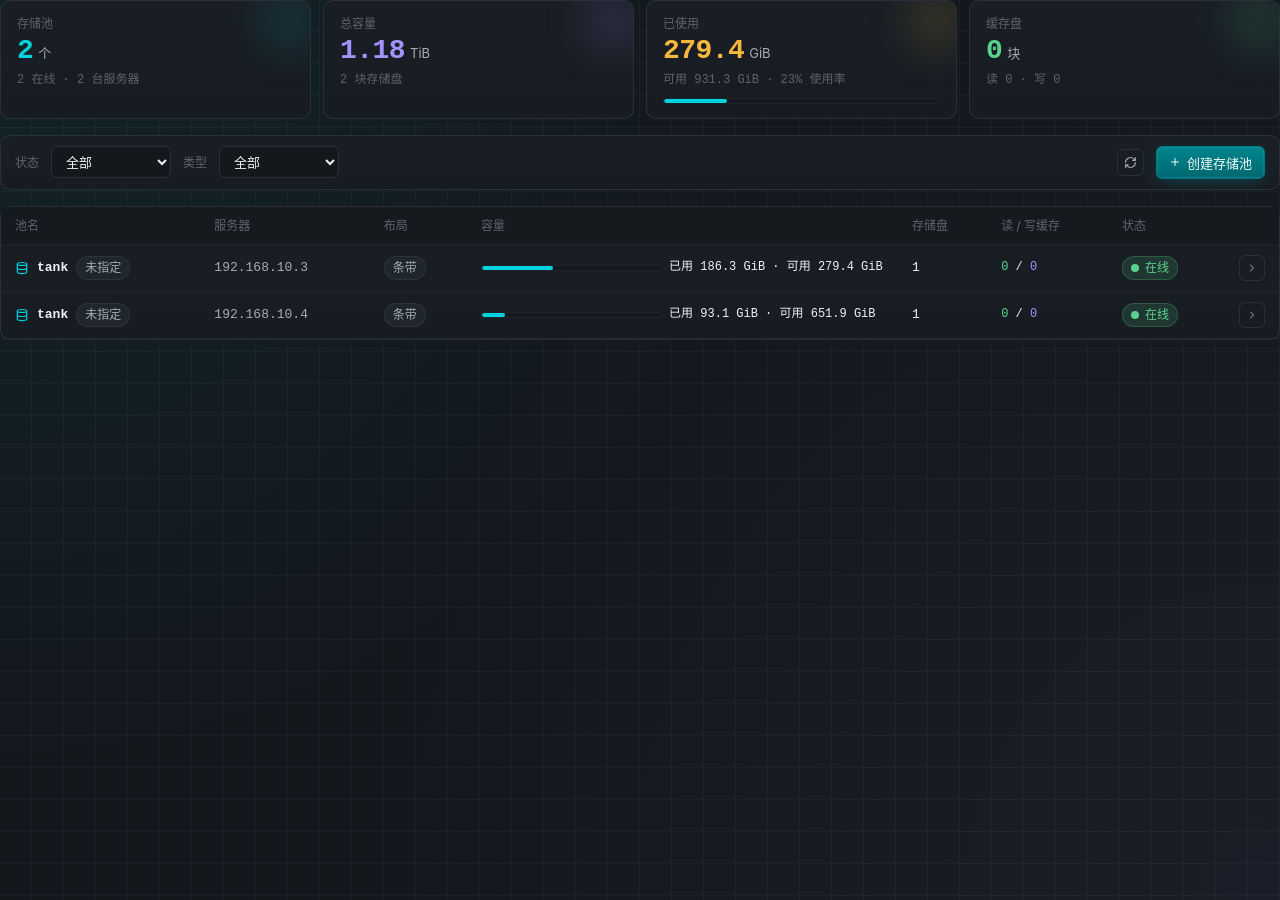
Scenario: 存储页的集群口径 › 建池选了别的节点，盘列表就换成那台的
Step 1. Click the button "创建存储池" → {"x": 1210, "y": 162}, box [1156,146,1265,179]
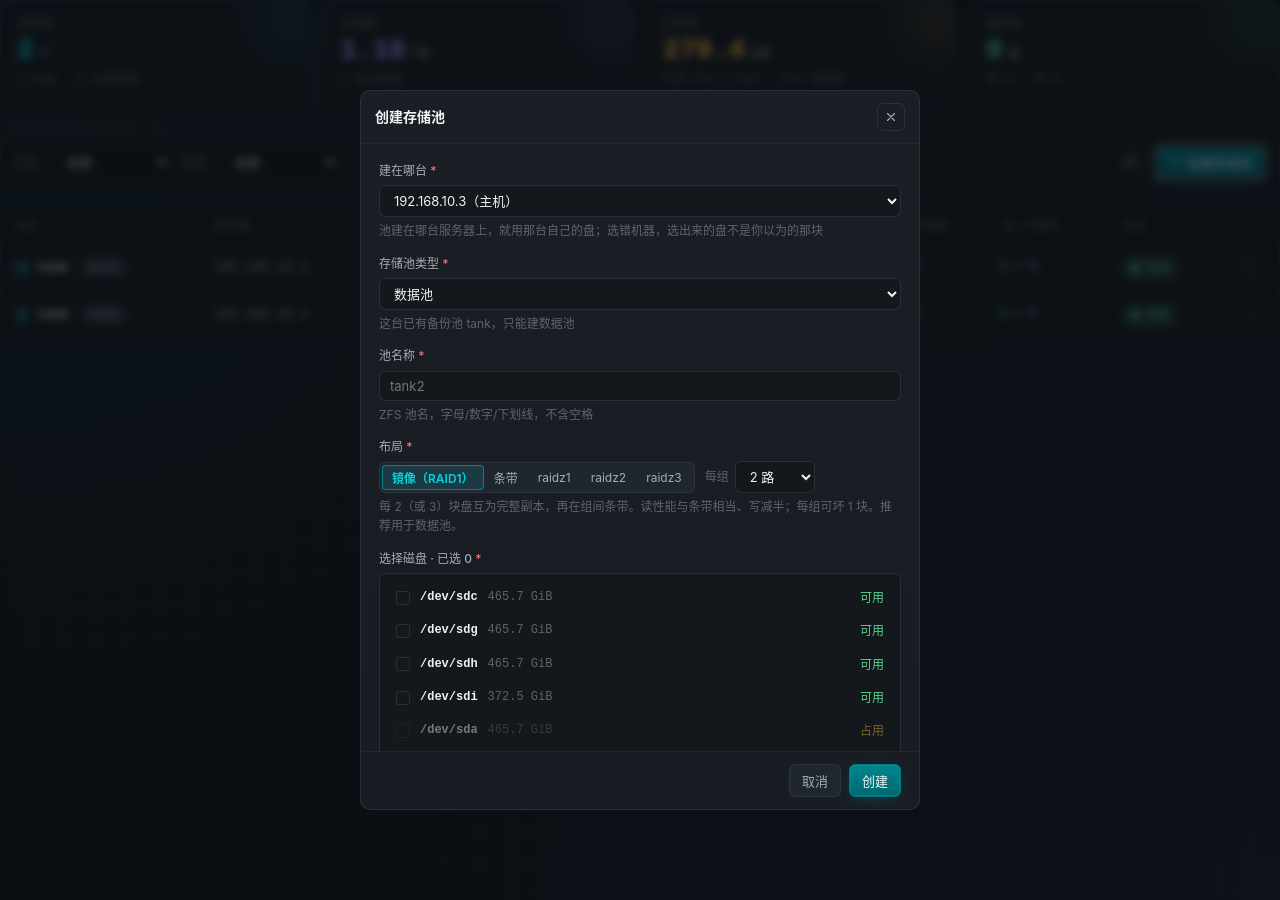
Step 2. Select "192.168.10.4" in the dropdown named "建在哪台" → {"x": 640, "y": 201}, box [379,185,901,217]
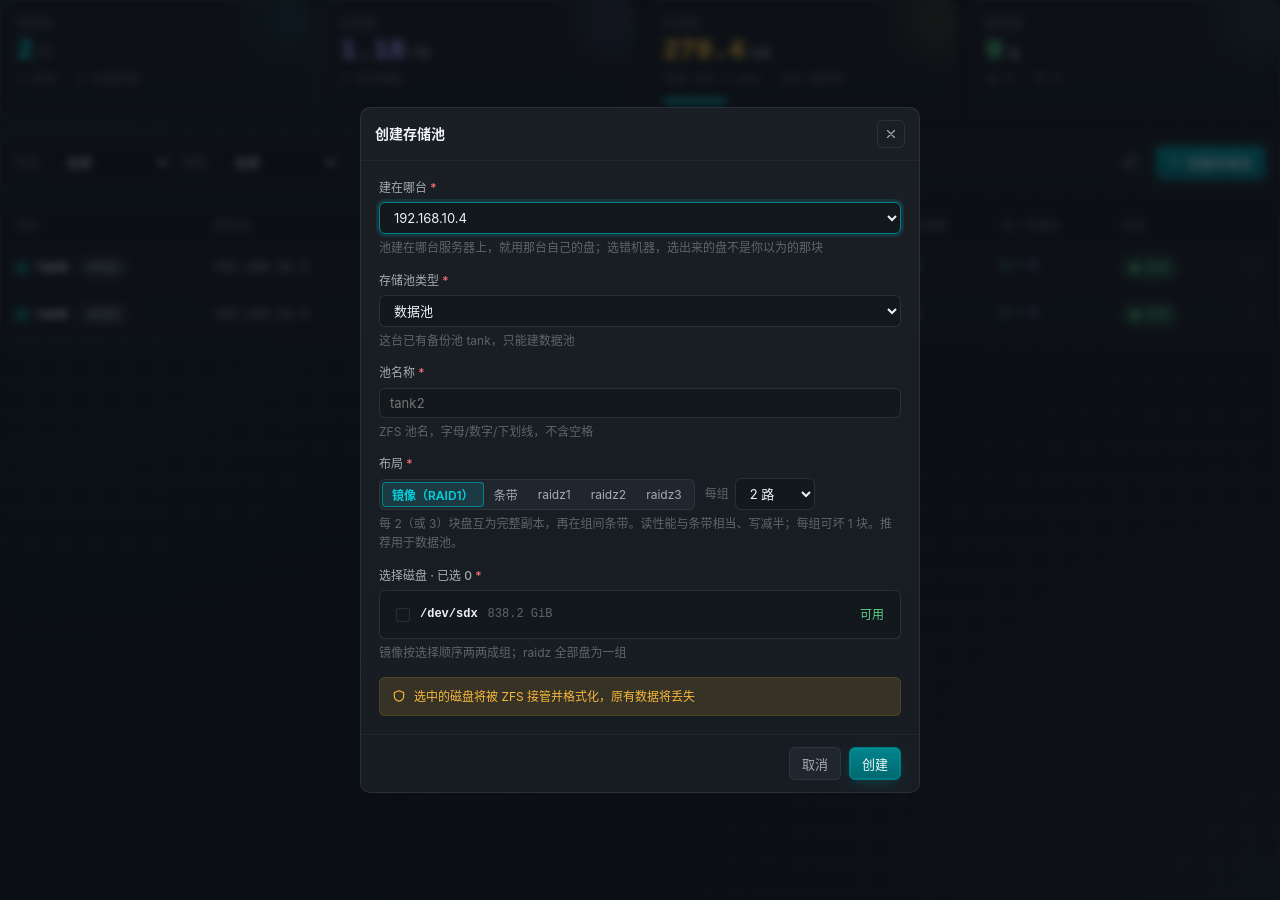
Expected: the text "/dev/sdx" is shown, [420,606,478,623]
Expected: the text "/dev/sdc" is gone
